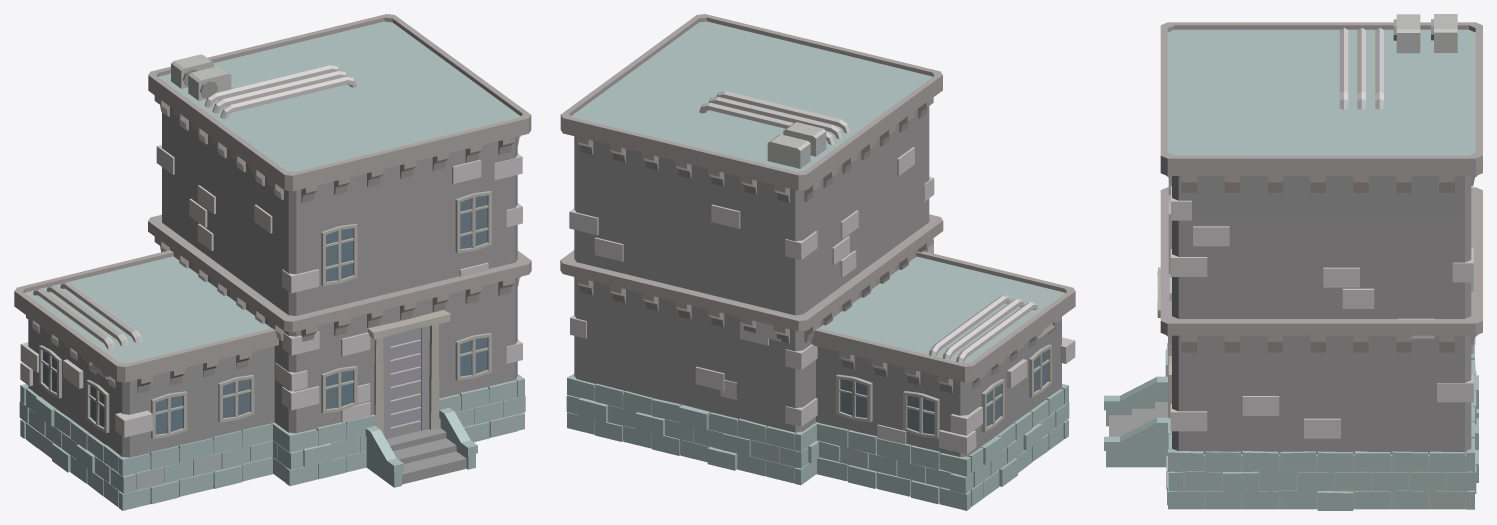
File: house-q-side.glb
3 renders of one model, left to right at view 1: azimuth 30°, elevation 25°; view 2: azimuth 150°, elevation 25°; view 3: azimuth 270°, elevation 25°, orthographic. The views are drawn at different scales.
Visible parts, largest first — view 1: 2Story_Sidehouse; view 2: 2Story_Sidehouse; view 3: 2Story_Sidehouse.
Boxes of the visible parts, x1,y1,x2,y2 form: 2Story_Sidehouse: (14, 14, 531, 510); 2Story_Sidehouse: (560, 14, 1075, 510); 2Story_Sidehouse: (1104, 14, 1482, 510).
Size of the model in its own units: 1 by 0.795 by 0.7301.
Materials: 1 (1 with a texture image).
